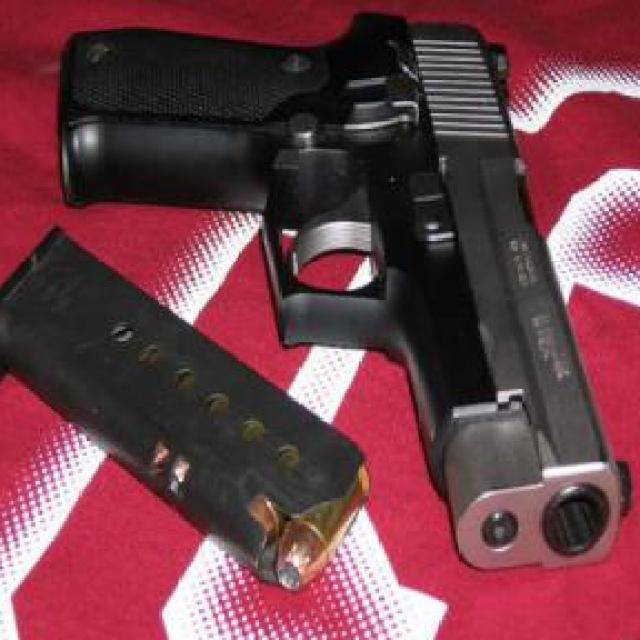pistol: (59, 11, 629, 569)
